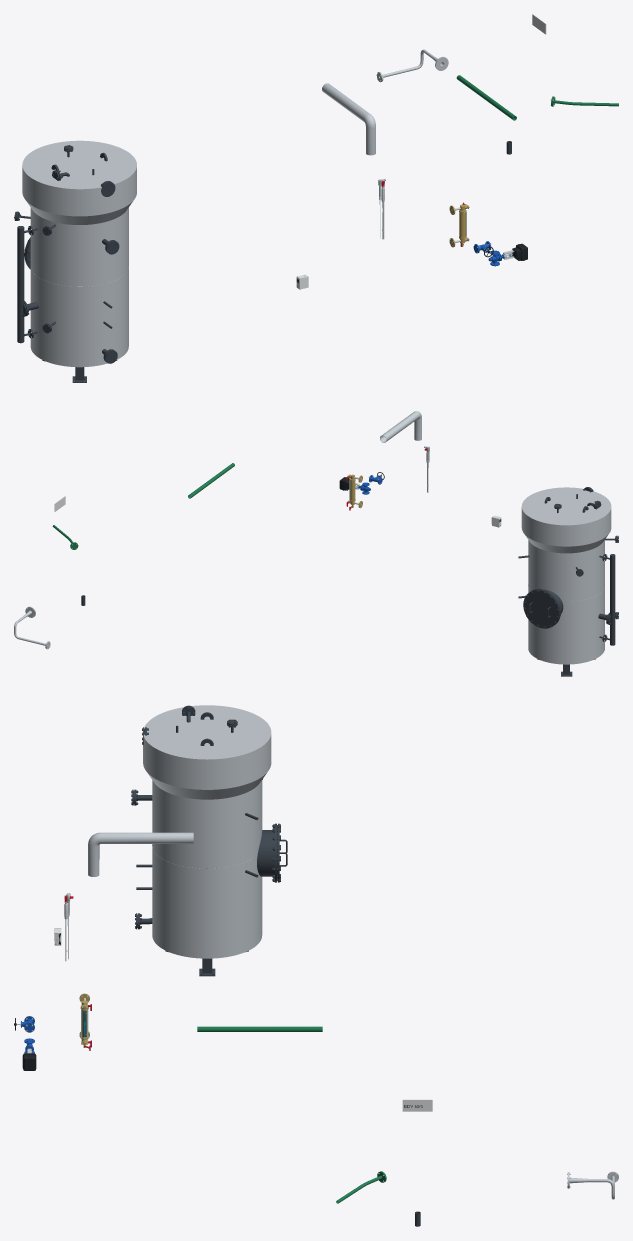
The model's file is s4000-1-a8G2oFAE.glb.
3 views of the same model, one above another, from view 1: azimuth 30°, elevation 25°; view 2: azimuth 150°, elevation 25°; view 3: azimuth 270°, elevation 25° (orthographic). The views are drawn at different scales.
Visible parts, largest first — view 1: deaerator / shell, deaerator / dark, steam_rise / steel; view 2: deaerator / shell, DA3 CAD 76, deaerator / dark, steam_rise / steel; view 3: deaerator / shell, steam_rise / steel, pump_delivery / green, DA3 CAD 11.
Part boxes in pixels (bbox=[...]): deaerator / shell: bbox=[22, 140, 136, 367]; deaerator / dark: bbox=[17, 225, 37, 343]; steam_rise / steel: bbox=[340, 96, 375, 155]; deaerator / shell: bbox=[521, 487, 611, 664]; DA3 CAD 76: bbox=[523, 589, 559, 628]; deaerator / dark: bbox=[599, 554, 615, 645]; steam_rise / steel: bbox=[396, 411, 421, 440]; deaerator / shell: bbox=[143, 705, 271, 958]; steam_rise / steel: bbox=[88, 832, 152, 876]; pump_delivery / green: bbox=[197, 1026, 322, 1031]; DA3 CAD 11: bbox=[257, 830, 274, 876].
Size of the model in its own units: 8.51 by 2.82 by 6.04.
